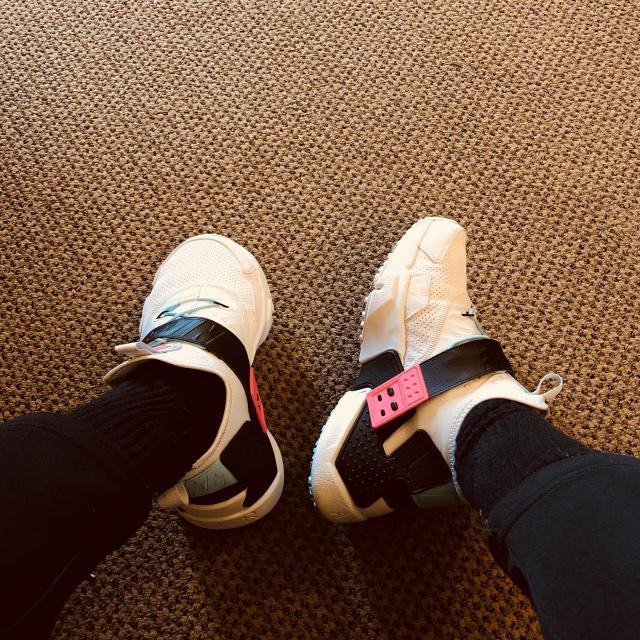shoes: (303, 215, 567, 525), (103, 232, 287, 535)
